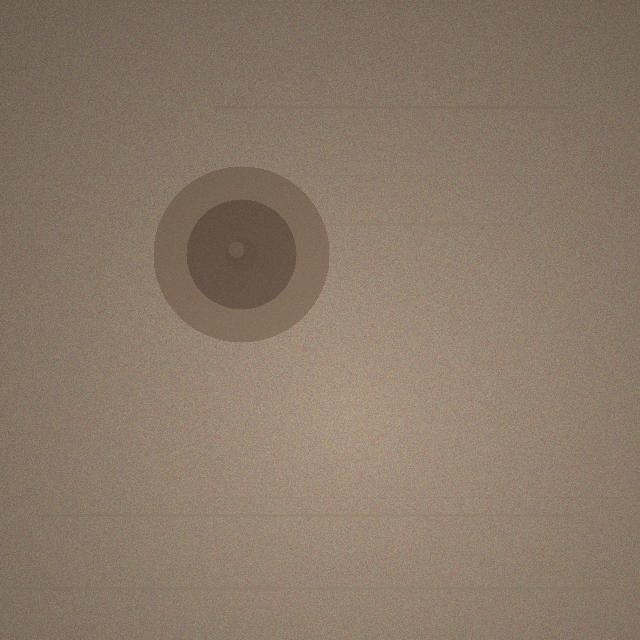good: (153, 166, 329, 342)
